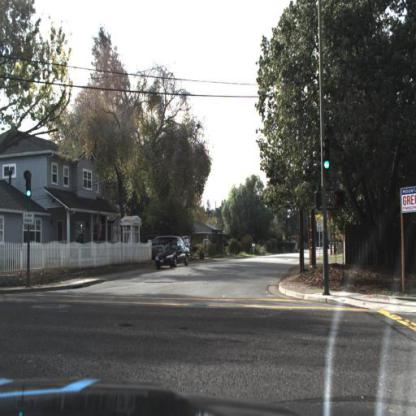car: (155, 240, 193, 271), (149, 234, 192, 252)
trafficLight: (23, 169, 34, 201)
trafficLight-Green: (323, 141, 332, 172)
